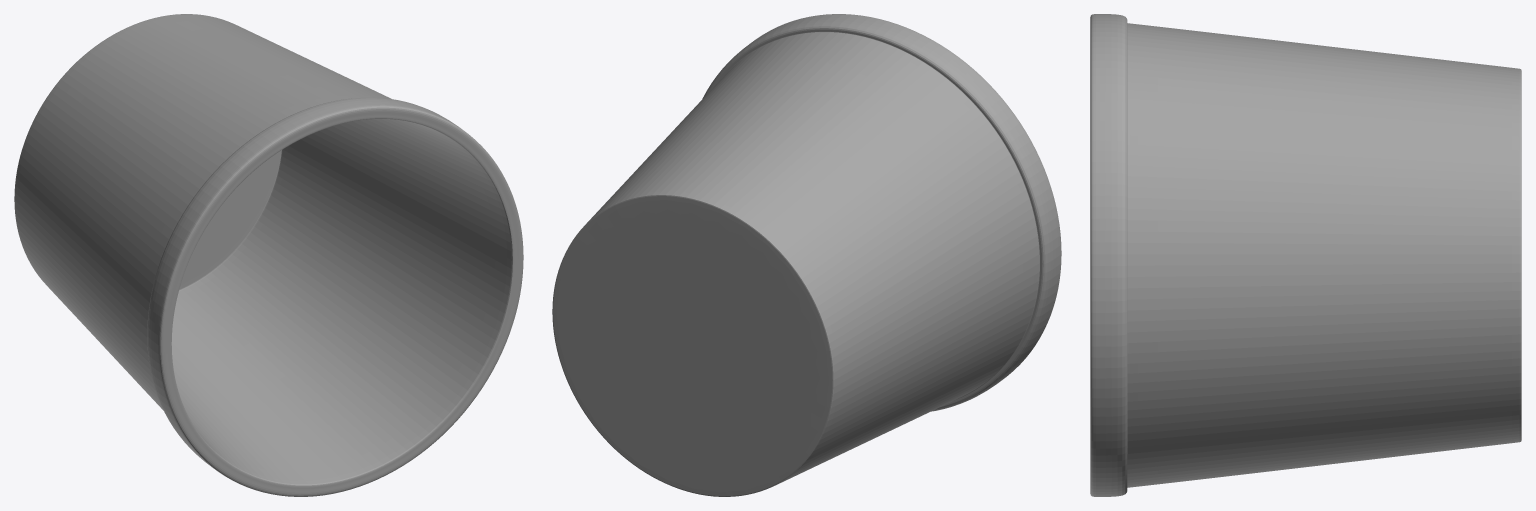
Rendered from trash.glb.
The picture shows the model from 3 angles, left to right: view 1: azimuth 30°, elevation 25°; view 2: azimuth 150°, elevation 25°; view 3: azimuth 270°, elevation 25°; orthographic projection. The views are drawn at different scales.
Visible parts, largest first — view 1: Trash; view 2: Trash; view 3: Trash.
Part boxes in pixels (x1,y1,x2,y2): Trash: [14, 14, 523, 496]; Trash: [552, 14, 1061, 496]; Trash: [1090, 14, 1521, 496].
Size of the model in its own units: 7.47 by 7.47 by 6.68.
1 material, 1 textured.
